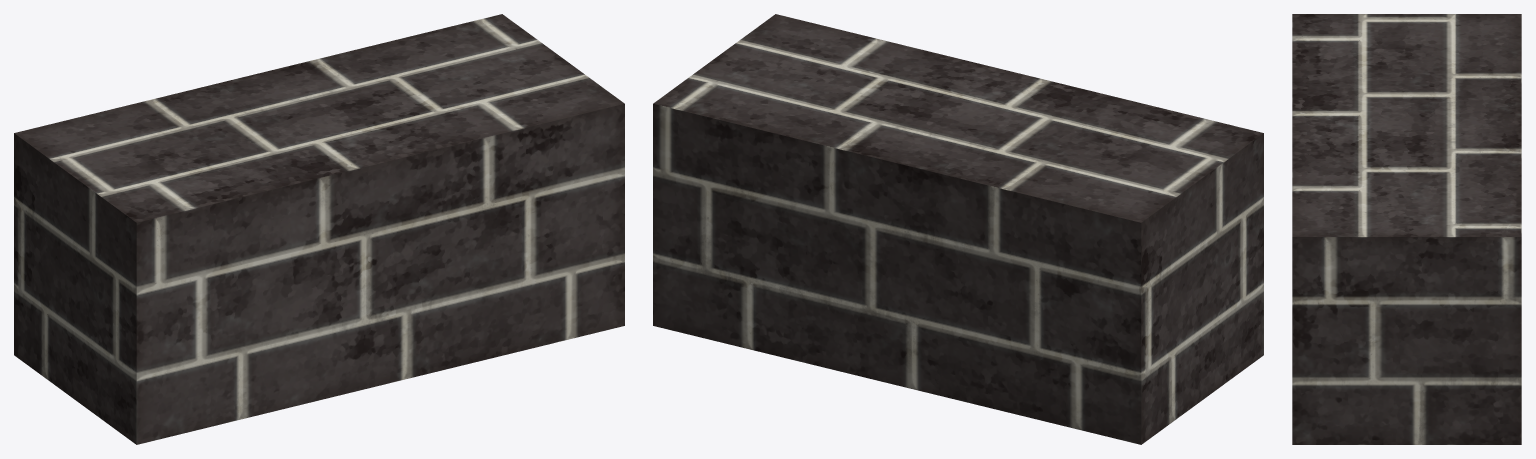
The model's file is Brick.fbx.
The picture shows the model from 3 angles, left to right: view 1: azimuth 30°, elevation 25°; view 2: azimuth 150°, elevation 25°; view 3: azimuth 270°, elevation 25°; orthographic projection. The views are drawn at different scales.
Parts seen in each view (by area): view 1: Brick; view 2: Brick; view 3: Brick.
Boxes of the visible parts, x1,y1,x2,y2 form: Brick: (14, 14, 624, 444); Brick: (653, 14, 1263, 444); Brick: (1292, 14, 1521, 444).
Bounding box in the file's own units: 92 × 40 × 40.
